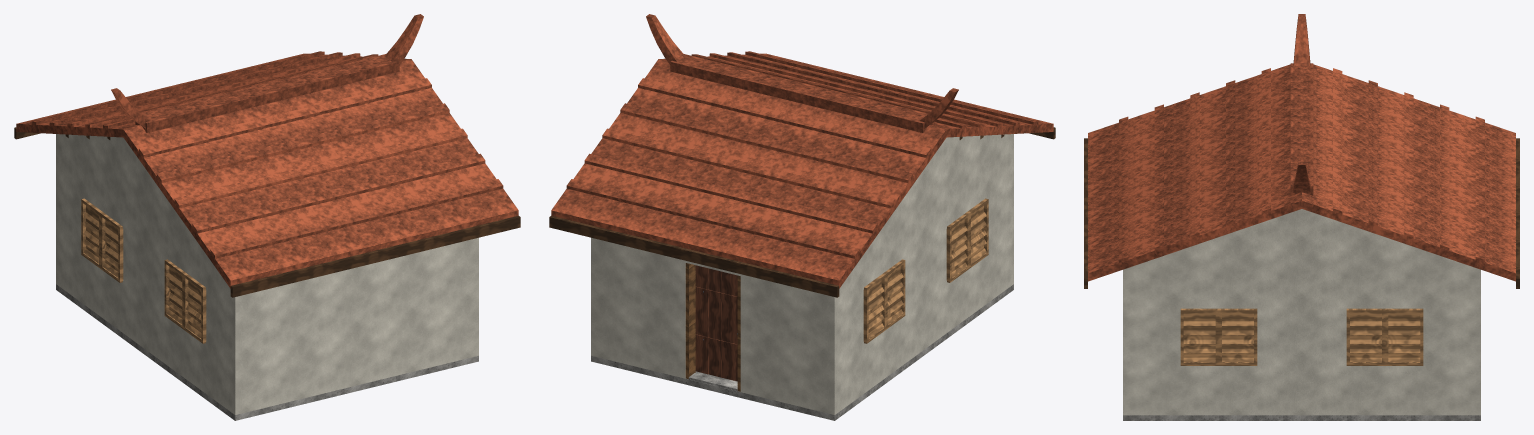
The model's file is village_house.fbx.
The picture shows the model from 3 angles, left to right: view 1: azimuth 30°, elevation 25°; view 2: azimuth 150°, elevation 25°; view 3: azimuth 270°, elevation 25°; orthographic projection.
Parts seen in each view (by area): view 1: village_house; view 2: village_house; view 3: village_house.
Boxes of the visible parts, x1,y1,x2,y2 form: village_house: (14,14,520,420); village_house: (549,14,1055,420); village_house: (1084,14,1519,420).
Bounding box in the file's own units: 559 × 470 × 682.
